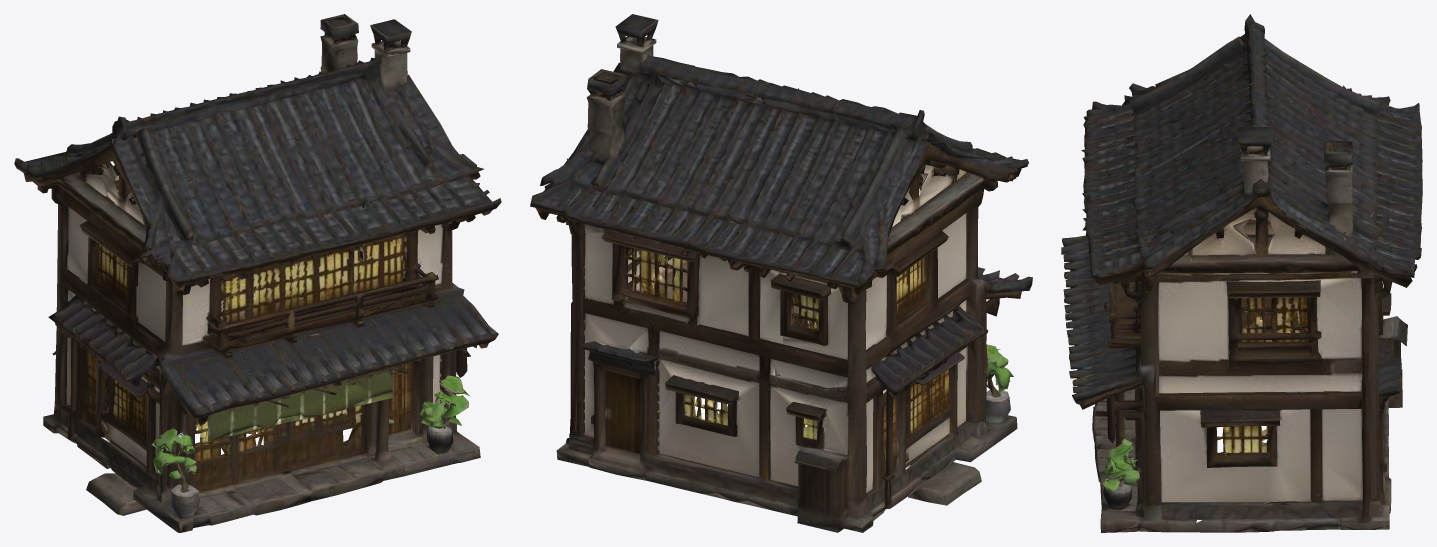
The model's file is candidate.glb.
The picture shows the model from 3 angles, left to right: view 1: azimuth 30°, elevation 25°; view 2: azimuth 150°, elevation 25°; view 3: azimuth 270°, elevation 25°; orthographic projection. The views are drawn at different scales.
Parts seen in each view (by area): view 1: compact__shop_2__native_mobile; view 2: compact__shop_2__native_mobile; view 3: compact__shop_2__native_mobile.
Boxes of the visible parts, <box> form: compact__shop_2__native_mobile: <box>14,14,501,532</box>; compact__shop_2__native_mobile: <box>530,14,1032,532</box>; compact__shop_2__native_mobile: <box>1061,14,1422,532</box>.
Bounding box in the file's own units: 0.9366 × 1 × 0.808.
1 material, 1 textured.
